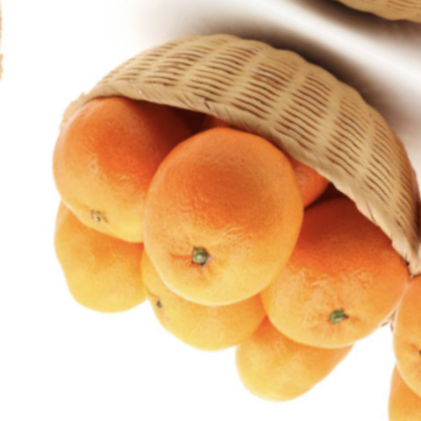orange: (101, 100, 335, 339), (0, 60, 222, 272), (236, 163, 421, 386)
